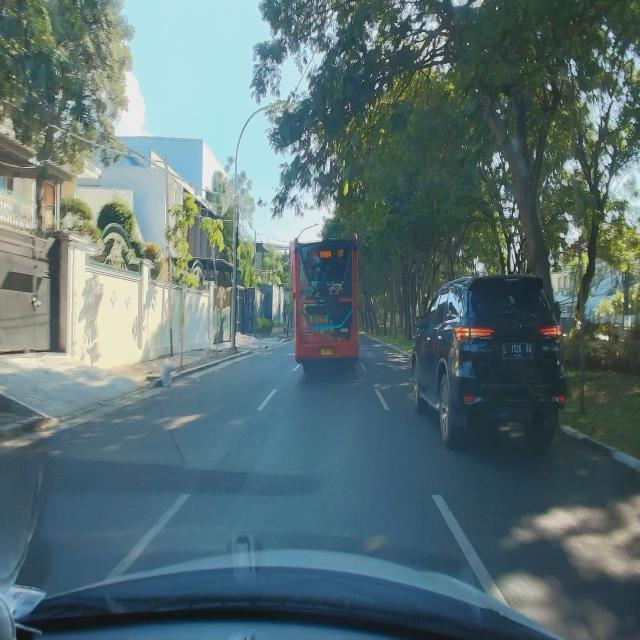bus: (293, 233, 360, 371)
car: (410, 269, 570, 454)
license-plate: (502, 342, 533, 359), (321, 347, 334, 356)
